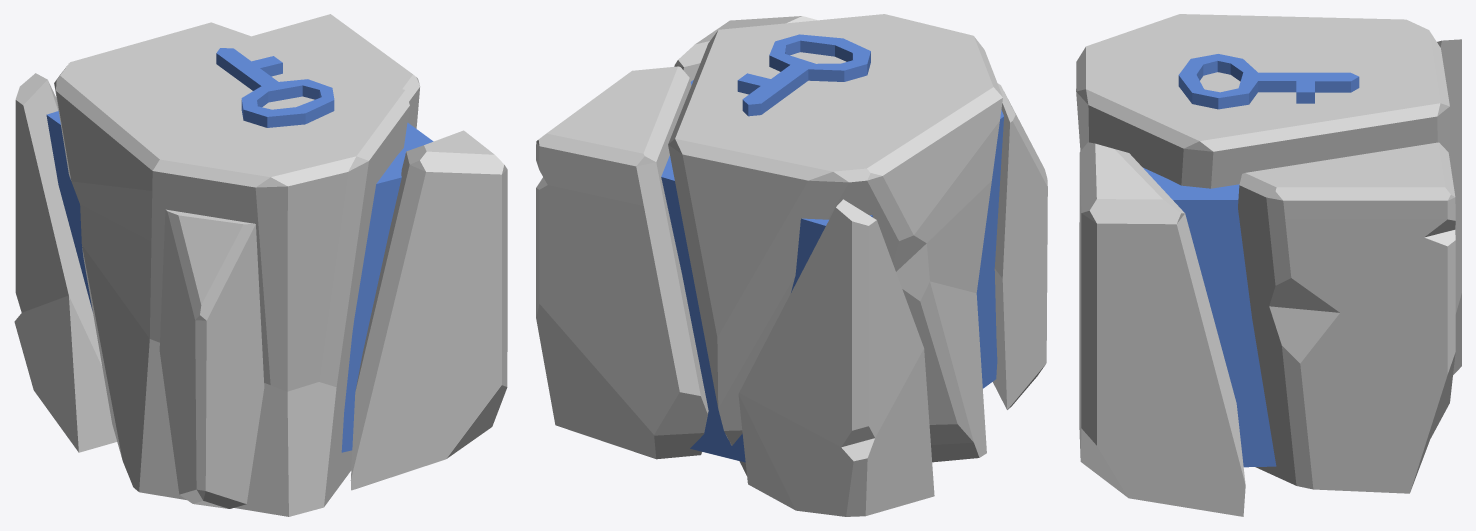
The model's file is Keybox.fbx.
The picture shows the model from 3 angles, left to right: view 1: azimuth 30°, elevation 25°; view 2: azimuth 150°, elevation 25°; view 3: azimuth 270°, elevation 25°; orthographic projection. The views are drawn at different scales.
Parts seen in each view (by area): view 1: Cube.003; view 2: Cube.003; view 3: Cube.003.
Boxes of the visible parts, x1,y1,x2,y2 form: Cube.003: [14, 14, 507, 516]; Cube.003: [536, 14, 1047, 516]; Cube.003: [1076, 14, 1461, 516].
Size of the model in its own units: 390 by 409 by 397.
